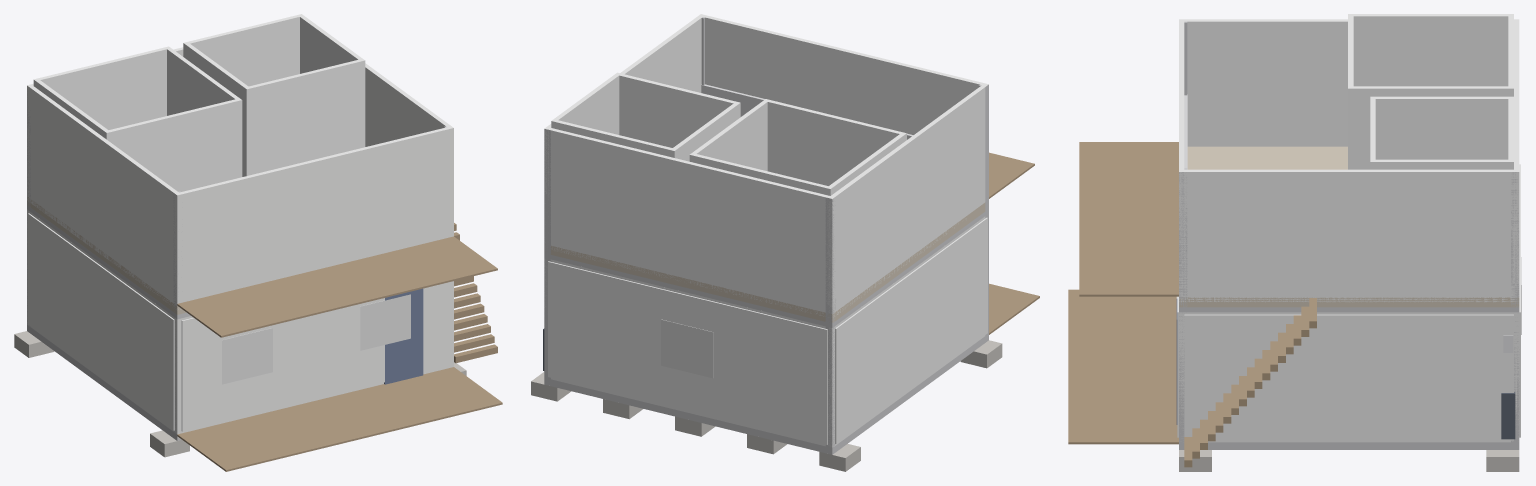
The model's file is Duplex-20-FullSolar+TerraceDeck-LOD0.glb.
The picture shows the model from 3 angles, left to right: view 1: azimuth 30°, elevation 25°; view 2: azimuth 150°, elevation 25°; view 3: azimuth 270°, elevation 25°; orthographic projection. The views are drawn at different scales.
Parts seen in each view (by area): view 1: ExteriorShellUpper, ExteriorPanelsStandard, StudyUpper, BedroomUpper, TerraceDeck, BalconyUpper, WindowsStandard, ExteriorShell, StaircaseExternal, BalconyGround, EntryDoor, FoundationBlocks (+4 smaller); view 2: ExteriorShellUpper, ExteriorPanelsStandard, BedroomUpper, StudyUpper, VerticalStructure, FloorUpper, FoundationBlocks, BaseFrame, ExteriorShell, WindowsStandard, TopFrame, TerraceDeck (+3 smaller); view 3: ExteriorShellUpper, ExteriorPanelsStandard, TerraceDeck, BalconyUpper, BedroomUpper, StudyUpper, FloorUpper, BalconyGround, StaircaseExternal, ExteriorShell, VerticalStructure, BaseFrame (+3 smaller).
Boxes of the visible parts, x1,y1,x2,y2 form: ExteriorShellUpper: (27,47,453,309); ExteriorPanelsStandard: (28,213,450,431); StudyUpper: (183,14,365,176); BedroomUpper: (33,46,242,191); TerraceDeck: (177,367,502,471); BalconyUpper: (177,236,497,337); WindowsStandard: (222,294,410,384); ExteriorShell: (27,209,453,434); StaircaseExternal: (454,223,497,363); BalconyGround: (178,368,453,460); EntryDoor: (384,288,423,384); FoundationBlocks: (14,331,466,457); ExteriorShellUpper: (544,14,988,317); ExteriorPanelsStandard: (548,217,987,444); BedroomUpper: (689,99,906,195); StudyUpper: (551,72,740,161); VerticalStructure: (544,17,988,447); FloorUpper: (544,202,985,322); FoundationBlocks: (531,340,1002,471); BaseFrame: (544,333,988,454); ExteriorShell: (544,216,985,447); WindowsStandard: (661,319,713,378); TopFrame: (545,210,987,327); TerraceDeck: (989,283,1039,334); ExteriorShellUpper: (1179,19,1519,302); ExteriorPanelsStandard: (1177,164,1520,440); TerraceDeck: (1068,289,1178,444); BalconyUpper: (1079,142,1178,296); BedroomUpper: (1348,14,1513,169); StudyUpper: (1370,96,1513,169); FloorUpper: (1179,146,1519,307); BalconyGround: (1096,296,1178,444); StaircaseExternal: (1184,298,1316,467); ExteriorShell: (1179,312,1519,442); VerticalStructure: (1179,21,1519,442); BaseFrame: (1179,442,1519,449).
Bounding box in the file's own units: 7.94 × 6 × 8.2.
